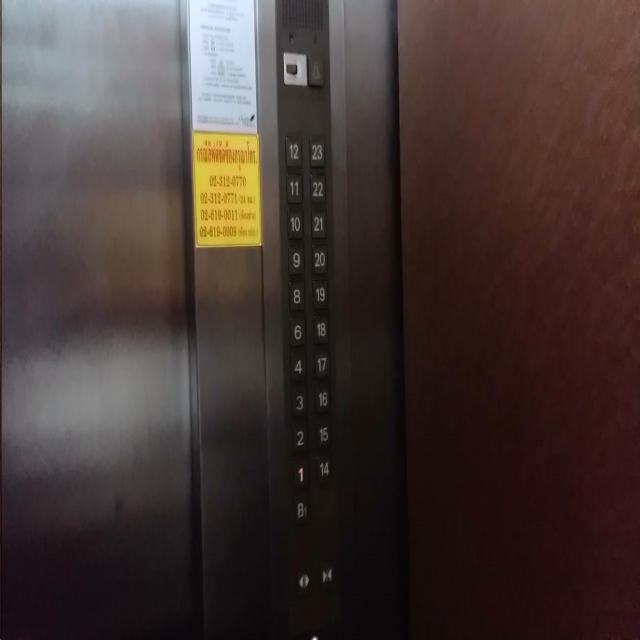1: (291, 454, 310, 489)
10: (286, 207, 304, 241)
11: (285, 171, 303, 203)
12: (284, 131, 302, 167)
14: (315, 449, 332, 483)
15: (314, 415, 332, 449)
16: (313, 381, 330, 415)
17: (312, 347, 330, 381)
18: (311, 311, 329, 346)
19: (311, 275, 328, 310)
2: (290, 419, 308, 453)
21: (310, 240, 328, 275)
22: (308, 168, 326, 204), (309, 203, 327, 239)
23: (307, 132, 326, 168)
3: (289, 384, 308, 418)
4: (289, 349, 307, 383)
6: (288, 314, 306, 348)
8: (287, 278, 305, 312)
9: (286, 242, 305, 276)
B1: (292, 489, 311, 524)
alarm: (308, 52, 325, 86)
blur: (283, 52, 307, 84)
close: (317, 560, 335, 588)
open: (294, 565, 313, 597)
